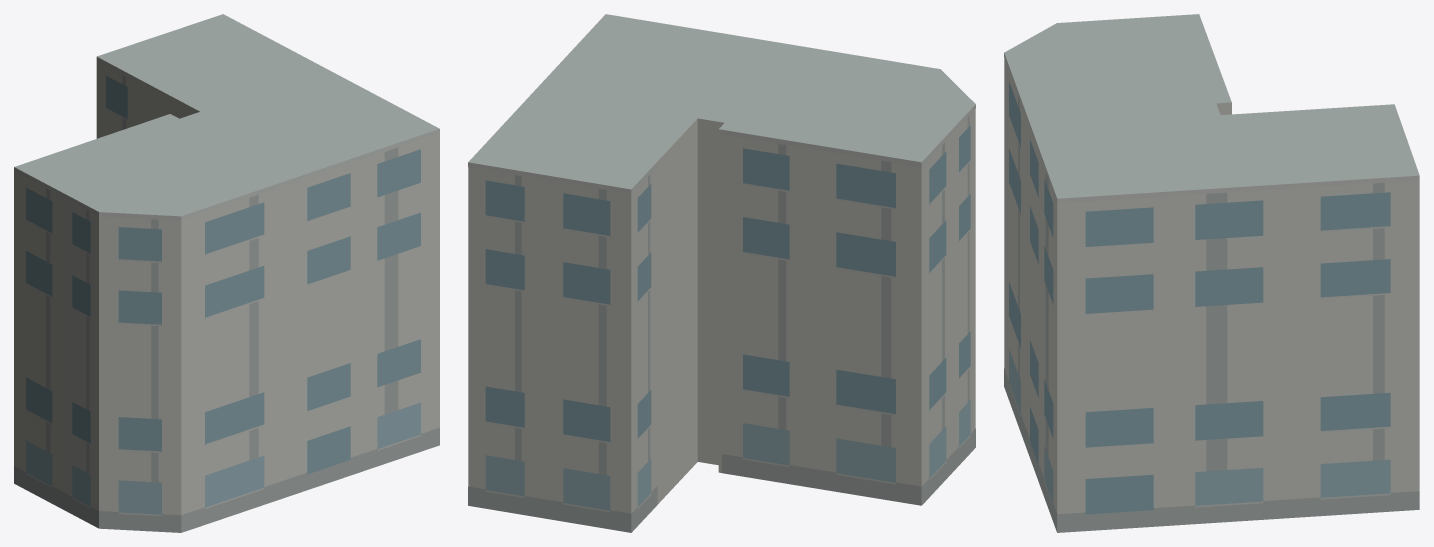
The model's file is survey-upis-32709214.glb.
3 renders of one model, left to right at view 1: azimuth 30°, elevation 25°; view 2: azimuth 150°, elevation 25°; view 3: azimuth 270°, elevation 25°, orthographic. The views are drawn at different scales.
Visible parts, largest first — view 1: survey-upis-32709214.tmp; view 2: survey-upis-32709214.tmp; view 3: survey-upis-32709214.tmp.
Boxes of the visible parts, bbox=[...] form: survey-upis-32709214.tmp: bbox=[14, 14, 439, 532]; survey-upis-32709214.tmp: bbox=[468, 14, 975, 532]; survey-upis-32709214.tmp: bbox=[1004, 14, 1419, 532].
Size of the model in its own units: 20.22 by 17.05 by 19.23.
